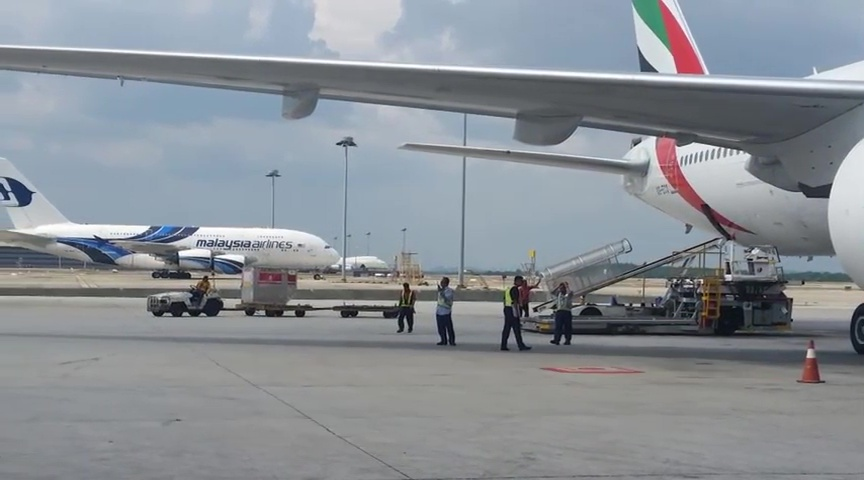safety_cone: (795, 339, 824, 385)
